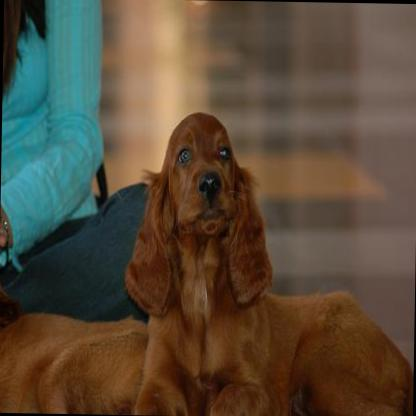Irish_setter: (119, 106, 415, 416)
